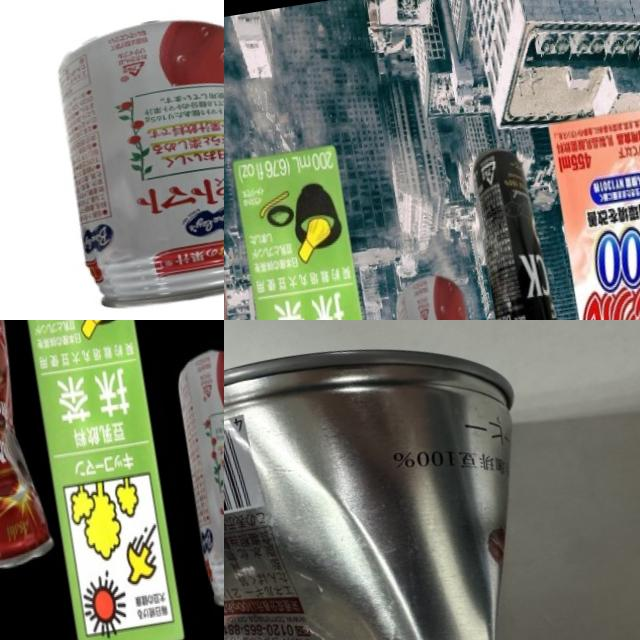Aluminium Foil: (7, 320, 192, 640), (224, 135, 409, 320), (543, 99, 640, 320)
Can: (224, 335, 560, 640), (47, 1, 224, 320), (463, 150, 566, 320), (168, 341, 224, 614), (0, 320, 50, 570), (385, 265, 509, 320)
